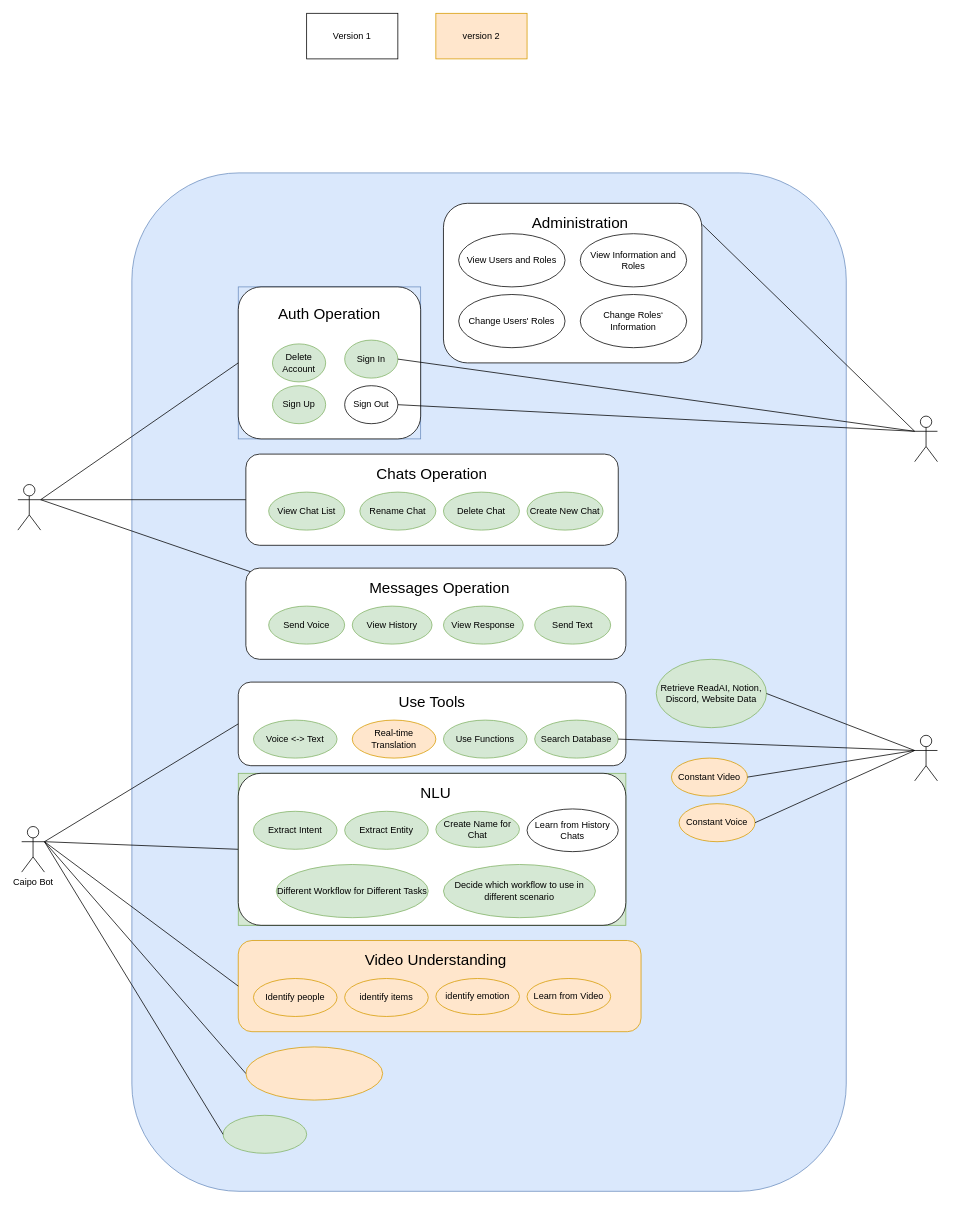
This 972x1205 diagram has some shape labels left out. Here are the shapes that lost their labels. From the top down, the box of each, then its label:
(914, 415, 937, 462): Administrator
(17, 484, 41, 530): User
(914, 735, 937, 781): Caipo Database
(245, 1046, 383, 1100): Learn from text, voice and video
(222, 1115, 307, 1153): Response
